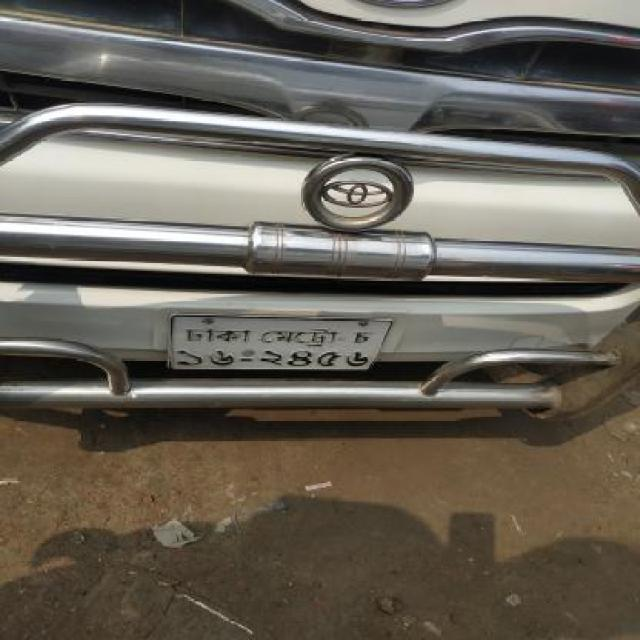numberplate: (166, 312, 392, 372)
